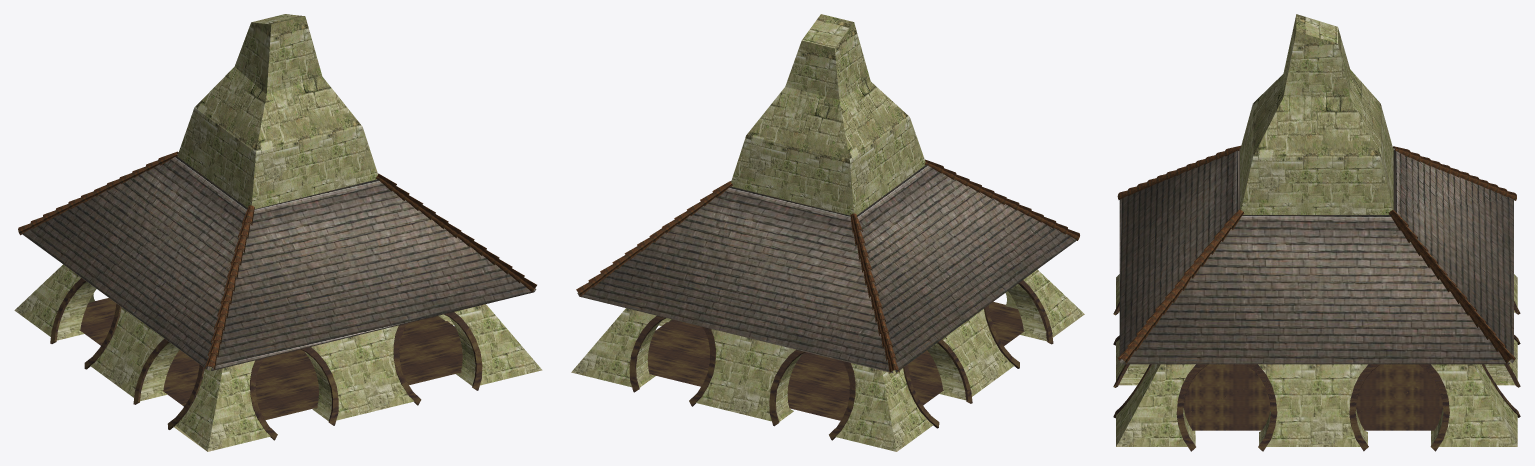
Rendered from piramide2_3721Poly_semp1.fbx.
3 renders of one model, left to right at view 1: azimuth 30°, elevation 25°; view 2: azimuth 150°, elevation 25°; view 3: azimuth 270°, elevation 25°, orthographic. The views are drawn at different scales.
Visible parts, largest first — view 1: Cubo.4, Piramide.1, Piano, Tubo, Tubo.11; view 2: Cubo.4, Piramide.1, Piano, Tubo, Tubo.11; view 3: Cubo.4, Piramide.1, Piano, Tubo, Tubo.11.
Part boxes in pixels (left/top/right/bottom): Cubo.4: left=22, top=154, right=536, bottom=370; Piramide.1: left=14, top=14, right=542, bottom=451; Piano: left=79, top=298, right=462, bottom=420; Tubo: left=18, top=151, right=536, bottom=369; Tubo.11: left=50, top=278, right=482, bottom=440; Cubo.4: left=577, top=164, right=1076, bottom=373; Piramide.1: left=571, top=14, right=1084, bottom=451; Piano: left=647, top=302, right=1024, bottom=420; Tubo: left=576, top=159, right=1079, bottom=373; Tubo.11: left=629, top=280, right=1053, bottom=440; Cubo.4: left=1119, top=148, right=1513, bottom=364; Piramide.1: left=1116, top=14, right=1517, bottom=446; Piano: left=1183, top=364, right=1442, bottom=430; Tubo: left=1117, top=145, right=1516, bottom=363; Tubo.11: left=1113, top=301, right=1520, bottom=451.
Size of the model in its own units: 204 by 189 by 203.
Materials: 6 (6 with a texture image).
